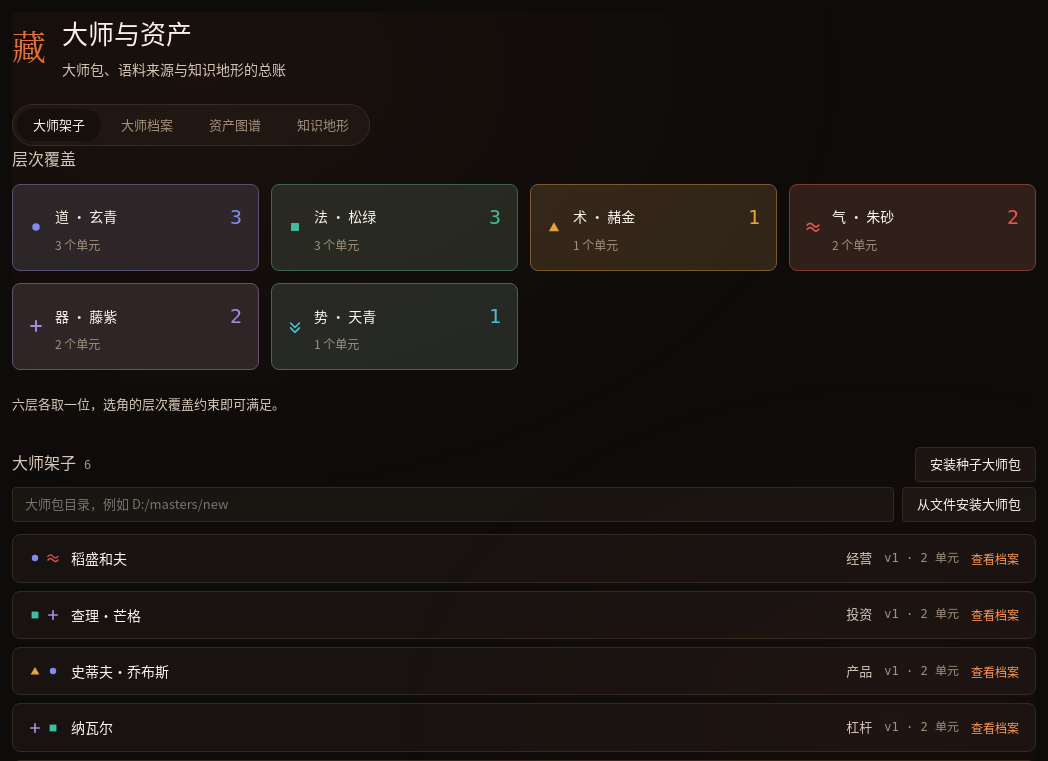
Test: 藏境界 · 大师档案 › 未选大师时提示先选一位
Click the tab "大师档案" at (147,125), box x1=105 y1=109 x2=189 y2=141
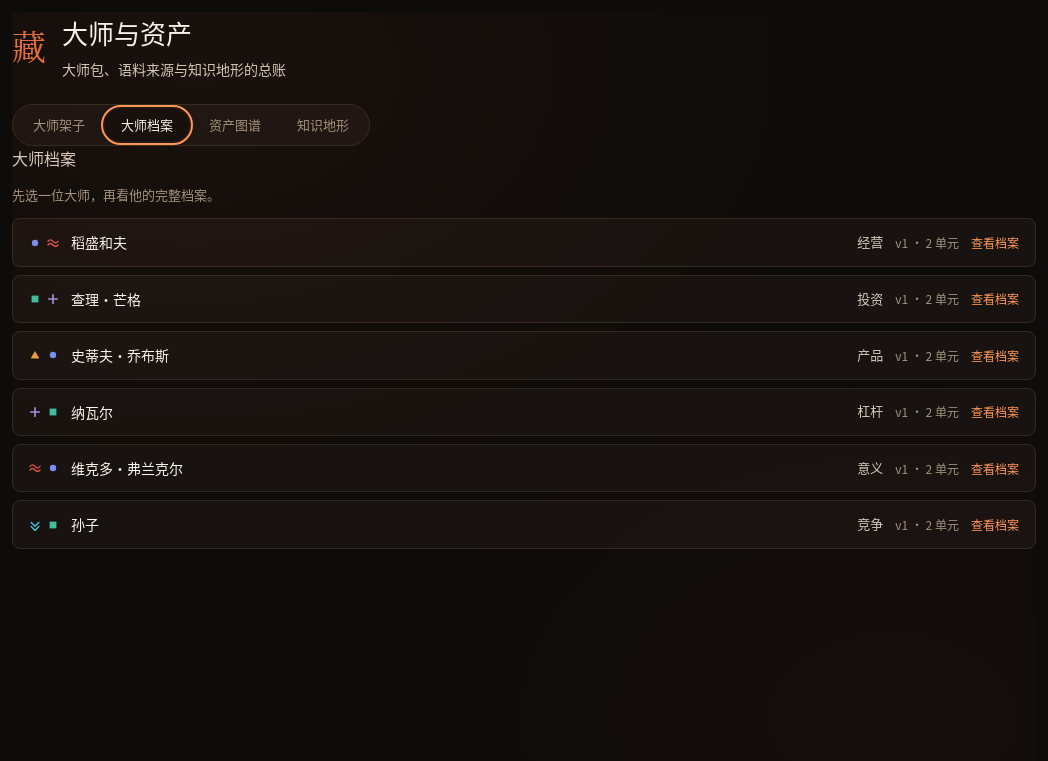
expect the text "先选一位大师，再看他的完整档案。" is shown: met, box x1=12 y1=185 x2=220 y2=204
